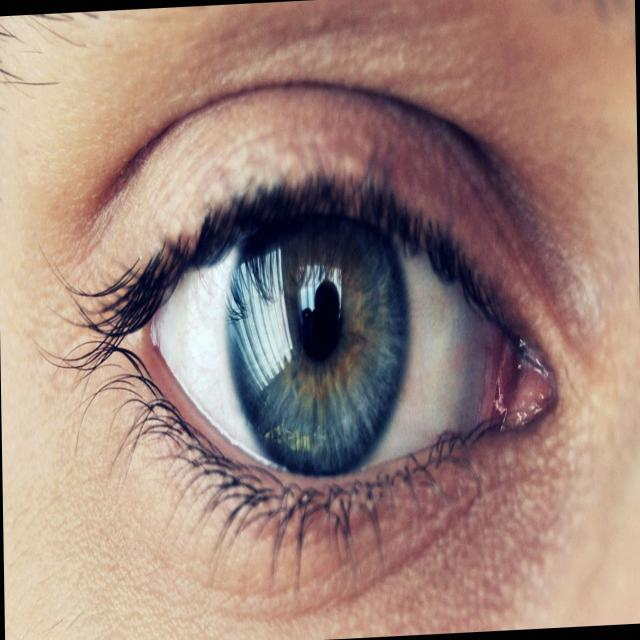Healthy-Eye: (65, 141, 587, 517)
